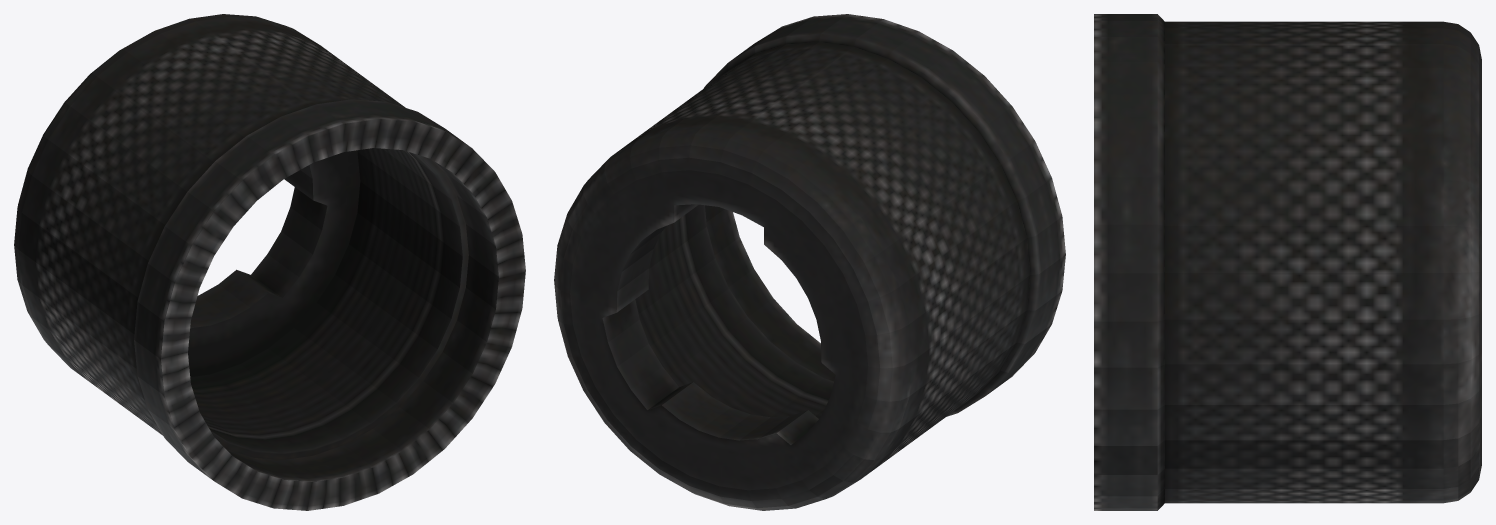
3 views of the same model, side by side, from view 1: azimuth 30°, elevation 25°; view 2: azimuth 150°, elevation 25°; view 3: azimuth 270°, elevation 25° (orthographic). The views are drawn at different scales.
Parts seen in each view (by area): view 1: TW_6698c9ba29e062525d0ad8b1_PZ_Import; view 2: TW_6698c9ba29e062525d0ad8b1_PZ_Import; view 3: TW_6698c9ba29e062525d0ad8b1_PZ_Import.
Part boxes in pixels (box(x1,y1,x2,y2)): TW_6698c9ba29e062525d0ad8b1_PZ_Import: box(14, 14, 525, 510); TW_6698c9ba29e062525d0ad8b1_PZ_Import: box(554, 14, 1065, 510); TW_6698c9ba29e062525d0ad8b1_PZ_Import: box(1094, 14, 1481, 510).
Bounding box in the file's own units: 0.0188 × 0.0146 × 0.0188.
1 material, 1 textured.
